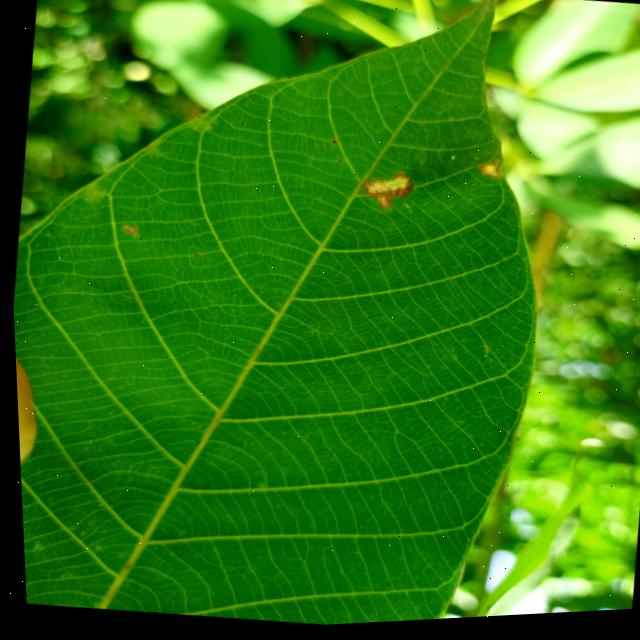Leaf-Blight: (357, 171, 415, 218), (475, 167, 503, 186)
